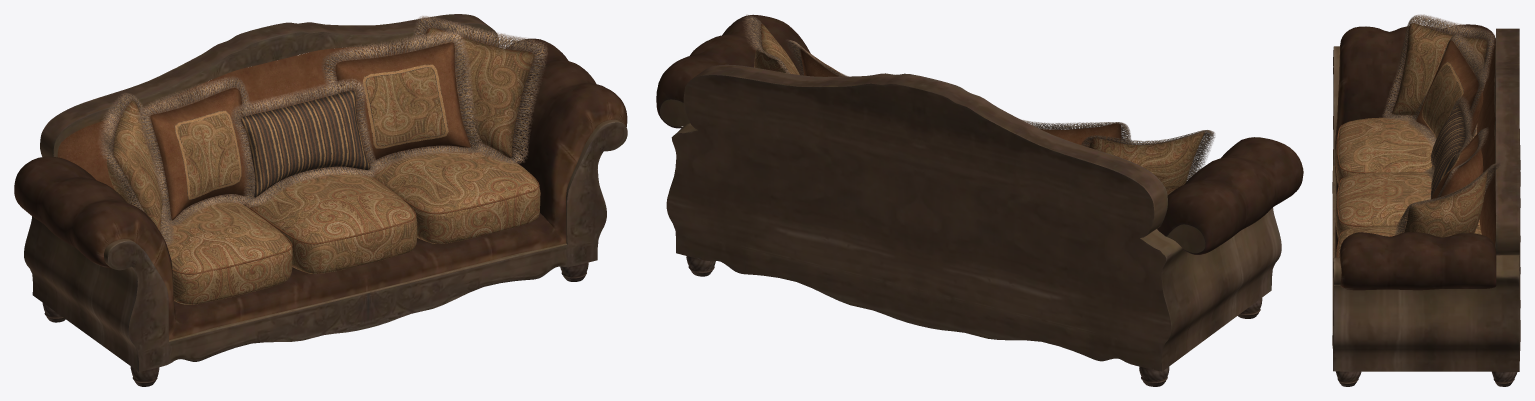
The model's file is lounge-sofa.glb.
3 renders of one model, left to right at view 1: azimuth 30°, elevation 25°; view 2: azimuth 150°, elevation 25°; view 3: azimuth 270°, elevation 25°, orthographic. The views are drawn at different scales.
Parts seen in each view (by area): view 1: Frame, Paisley, Fringe, Brown, Stripes, Frame_Fabric; view 2: Frame, Paisley, Fringe, Brown; view 3: Frame, Paisley, Fringe, Brown, Frame_Fabric, Stripes.
Part boxes in pixels (x1,y1,x2,y2): Frame: (14, 14, 627, 386); Paisley: (107, 27, 540, 304); Fringe: (98, 16, 547, 245); Brown: (150, 42, 539, 274); Stripes: (174, 64, 448, 199); Frame_Fabric: (57, 34, 494, 189); Frame: (656, 14, 1303, 386); Paisley: (754, 23, 1204, 194); Fringe: (743, 14, 1214, 181); Brown: (800, 46, 1121, 147); Frame: (1332, 24, 1520, 386); Paisley: (1335, 23, 1487, 257); Fringe: (1382, 14, 1499, 235); Brown: (1337, 40, 1483, 257); Frame_Fabric: (1477, 39, 1495, 245); Stripes: (1422, 61, 1472, 198).
Size of the model in its own units: 2.73 by 1.12 by 0.9231.
6 materials, 6 textured.
